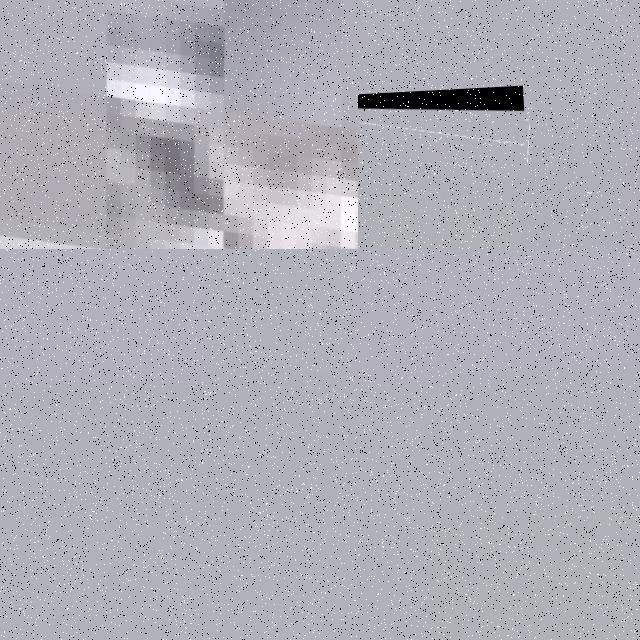drone: (0, 0, 358, 249), (358, 85, 532, 249)
